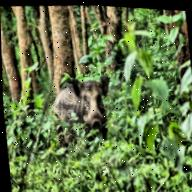boar: (45, 59, 118, 157)
